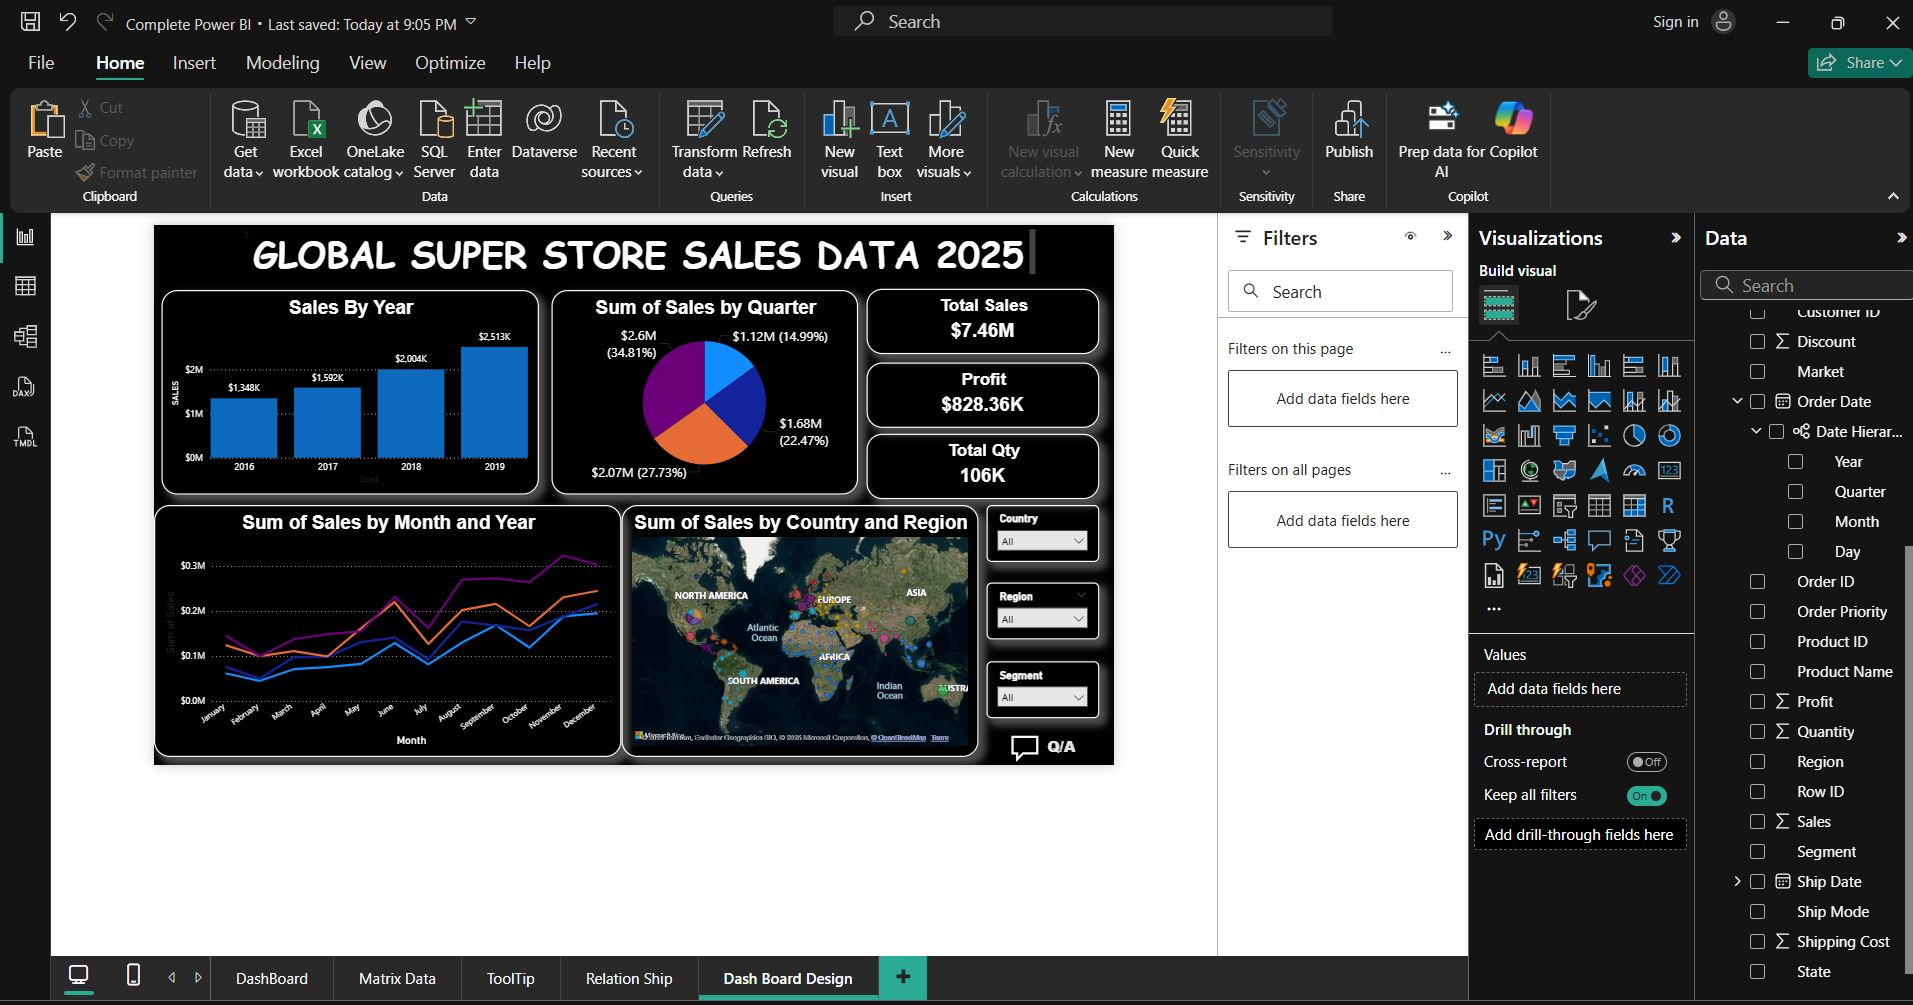

This screenshot's page, from the dashboard's own definition file:
{"tool":"powerbi","page":{"name":"Dash Board Design","canvas":[1280,720],"ordinal":4},"visuals":[{"type":"columnChart","title":"Sales By Year","fields":{"Category":["Orders.Order Date.Variation.Date Hierarchy.Year"],"Y":["Sum(Orders.Sales)"]},"box":[10,87.1,502.9,272.9],"z":0},{"type":"pieChart","fields":{"Y":["Sum(Orders.Sales)"],"Category":["Orders.Order Date.Variation.Date Hierarchy.Quarter"]},"box":[530,87.1,408.6,272.9],"z":1000},{"type":"lineChart","fields":{"Category":["Orders.Order Date.Variation.Date Hierarchy.Month"],"Y":["Sum(Orders.Sales)"],"Series":["Orders.Order Date.Variation.Date Hierarchy.Year"]},"box":[0,372.9,622.9,335.7],"z":2000},{"type":"map","fields":{"Category":["Orders.Country"],"Size":["Sum(Orders.Sales)"],"Series":["Orders.Region"]},"box":[622.9,372.9,475.7,335.7],"z":3000},{"type":"card","title":"Total  Sales","fields":{"Values":["Sum(Orders.Sales)"]},"box":[950,84.3,310,87.1],"z":4000},{"type":"actionButton","box":[1138.6,674.3,94.3,45.7],"z":5000},{"type":"slicer","fields":{"Values":["Orders.Country"]},"box":[1110,372.9,150,75.7],"z":6000},{"type":"slicer","fields":{"Values":["Orders.Region"]},"box":[1110,477.1,150,75.7],"z":7000},{"type":"slicer","fields":{"Values":["Orders.Segment"]},"box":[1110,581.4,150,75.7],"z":8000},{"type":"textbox","box":[101.7,0,1078.3,73.3],"z":9000},{"type":"card","title":"Profit","fields":{"Values":["Sum(Orders.Profit)"]},"box":[950,182.9,310,87.1],"z":11000},{"type":"card","title":"Total Qty","fields":{"Values":["Sum(Orders.Quantity)"]},"box":[950,278.6,310,87.1],"z":12000}]}

Visuals, with their boxes on the page's 1280x720 design canvas (x1, y1, x2, y2). These are canvas units, not pixel positions in the 1913x1005 screenshot, which may show the page scaled, cropped or inside an application window:
"Sales By Year" columnChart: (left=10, top=87, right=513, bottom=360)
pieChart - Sum(Orders.Sales) x Orders.Order Date.Variation.Date Hierarchy.Quarter: (left=530, top=87, right=939, bottom=360)
lineChart - Orders.Order Date.Variation.Date Hierarchy.Month x Sum(Orders.Sales): (left=0, top=373, right=623, bottom=709)
map - Orders.Country x Sum(Orders.Sales): (left=623, top=373, right=1099, bottom=709)
"Total  Sales" card: (left=950, top=84, right=1260, bottom=171)
actionButton: (left=1139, top=674, right=1233, bottom=720)
slicer - Orders.Country: (left=1110, top=373, right=1260, bottom=449)
slicer - Orders.Region: (left=1110, top=477, right=1260, bottom=553)
slicer - Orders.Segment: (left=1110, top=581, right=1260, bottom=657)
textbox: (left=102, top=0, right=1180, bottom=73)
"Profit" card: (left=950, top=183, right=1260, bottom=270)
"Total Qty" card: (left=950, top=279, right=1260, bottom=366)
